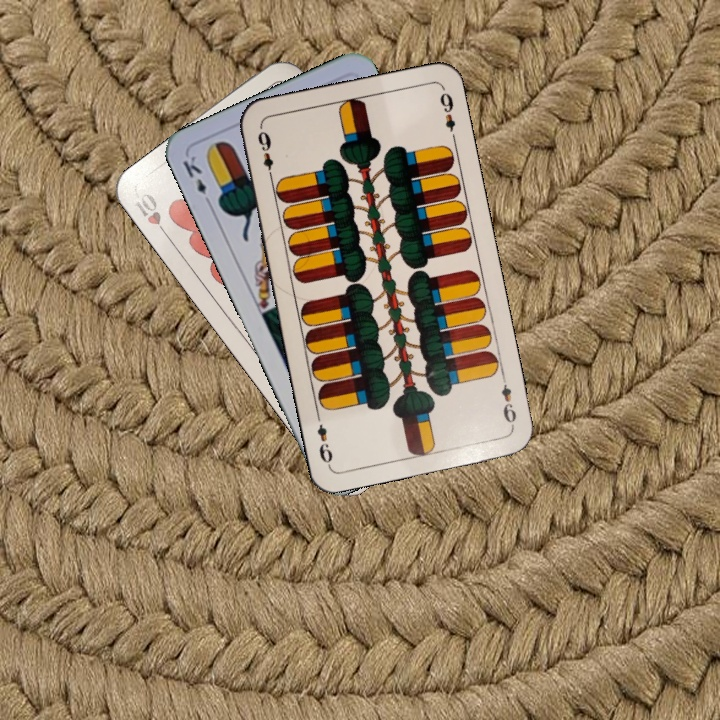E9: (253, 124, 276, 183), (497, 371, 519, 429)
EK: (178, 151, 215, 209)
H10: (130, 189, 173, 242)
